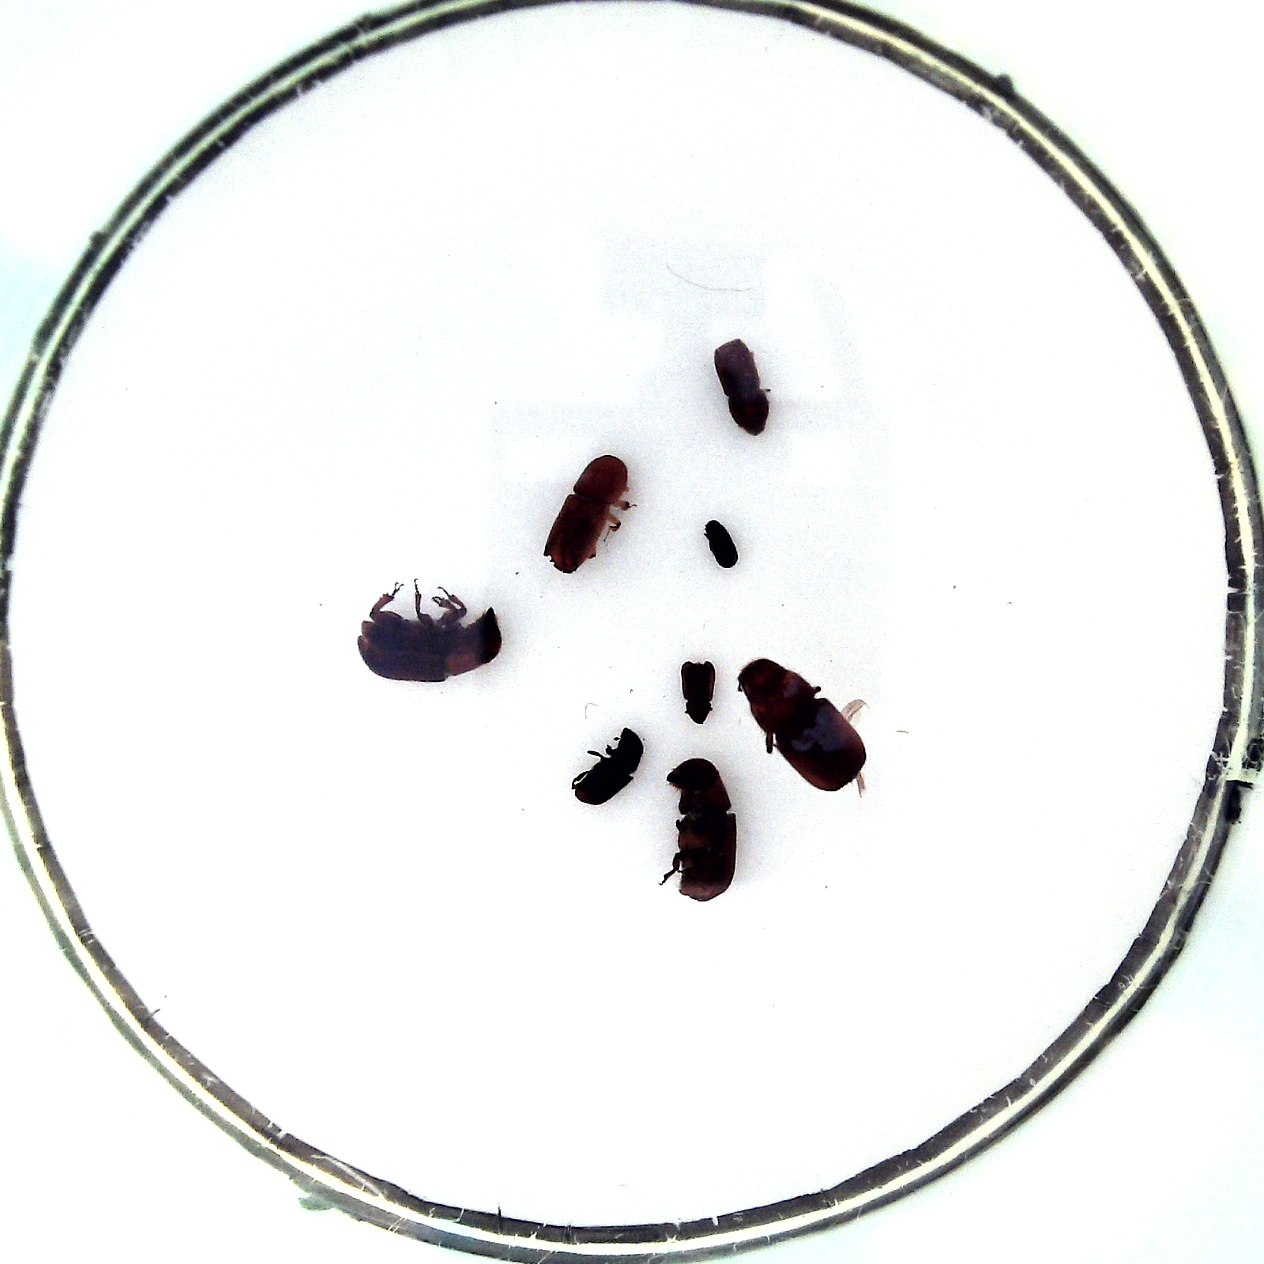Boerner: (544, 454, 629, 572)
Leconte: (738, 659, 867, 793), (357, 607, 504, 682), (666, 757, 737, 903)
acuminatus: (705, 520, 738, 568)
armandi: (572, 727, 644, 804)
coleoptera: (682, 662, 715, 725)
linnaeus: (714, 338, 770, 438)
